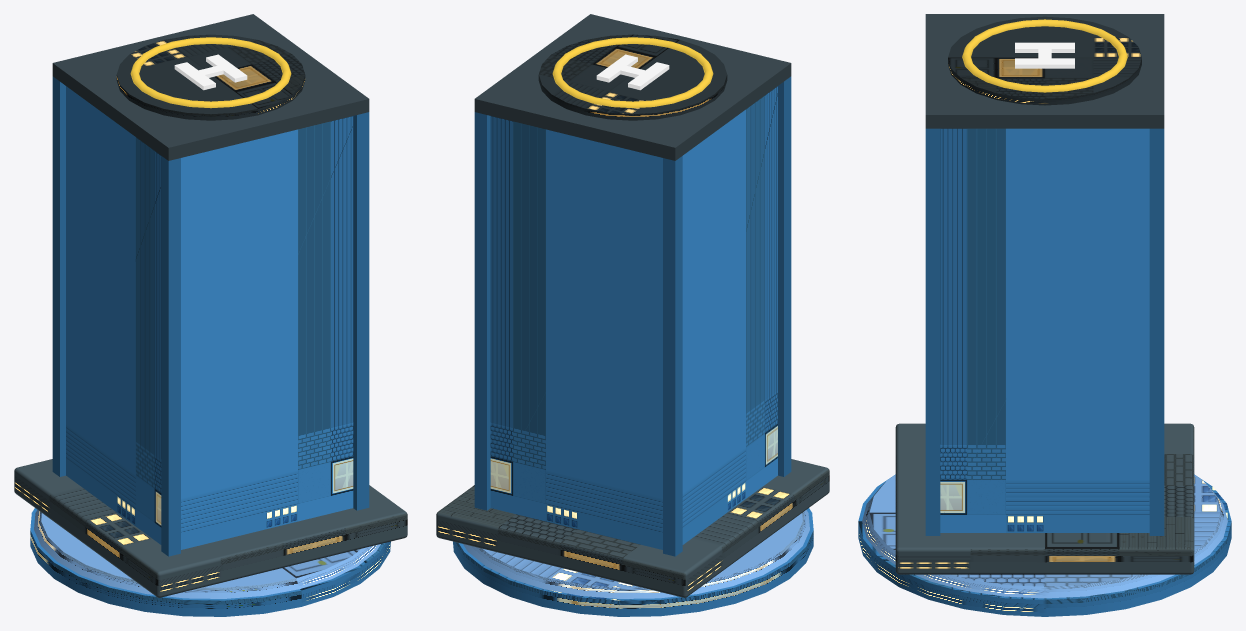
The model's file is tier-12-office-tower.glb.
The picture shows the model from 3 angles, left to right: view 1: azimuth 30°, elevation 25°; view 2: azimuth 150°, elevation 25°; view 3: azimuth 270°, elevation 25°; orthographic projection. The views are drawn at different scales.
Visible parts, largest first — view 1: toon, gloss, glow; view 2: toon, gloss, glow; view 3: toon, gloss, glow.
Boxes of the visible parts, box(x1,y1,x2,y2) form: toon: box(14, 34, 407, 616); gloss: box(52, 14, 369, 556); glow: box(130, 37, 291, 108); toon: box(436, 34, 829, 616); gloss: box(474, 14, 791, 556); glow: box(552, 37, 713, 108); toon: box(858, 16, 1231, 616); gloss: box(925, 14, 1164, 535); glow: box(962, 19, 1127, 92).
Bounding box in the file's own units: 1 × 1.43 × 1.
3 materials, 1 textured.
